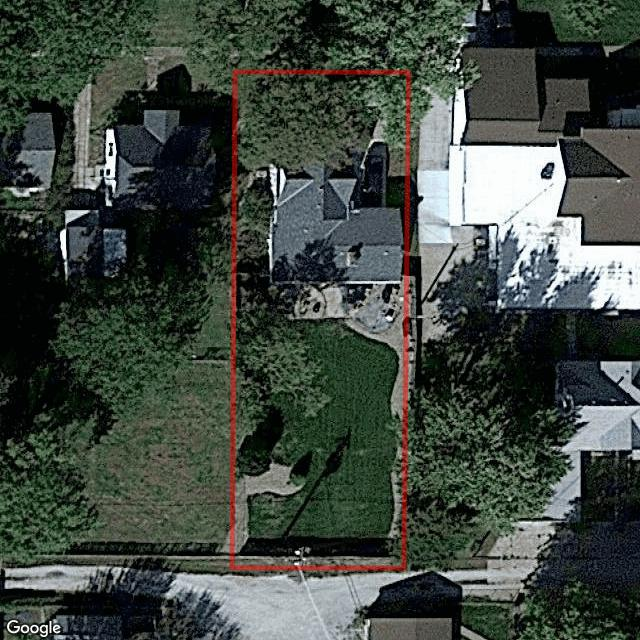Driveway: (294, 287, 402, 540), (235, 462, 303, 552)
House: (268, 165, 404, 286)
